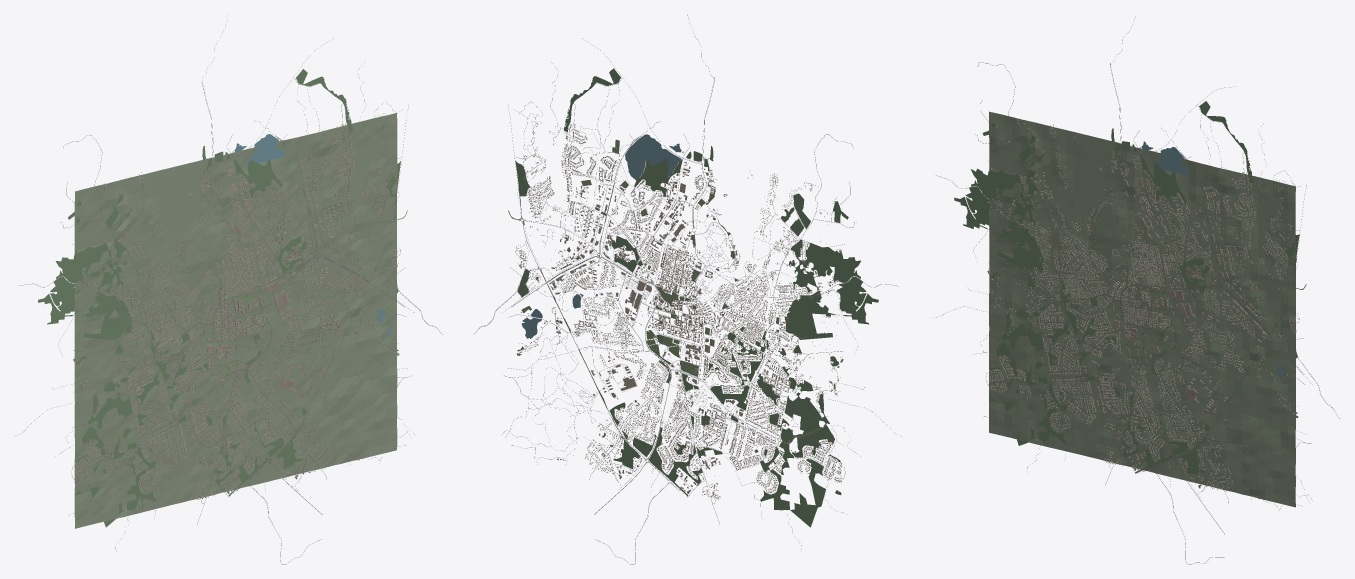
The model's file is pietarsaari_3d.glb.
3 views of the same model, side by side, from view 1: azimuth 30°, elevation 25°; view 2: azimuth 150°, elevation 25°; view 3: azimuth 330°, elevation 25° (orthographic). The views are drawn at different scales.
Visible parts, largest first — view 1: terrain_real_elevation, landcover_127, landcover_115, landcover_125, landcover_123, landcover_36, landcover_104; view 2: landcover_127, landcover_115, landcover_104, landcover_125, landcover_36, landcover_123, landcover_12, landcover_46, landcover_37; view 3: terrain_real_elevation, landcover_127, landcover_115, landcover_125, landcover_123, landcover_36, landcover_104.
Part boxes in pixels (bbox=[...]): terrain_real_elevation: bbox=[74, 113, 397, 528]; landcover_127: bbox=[55, 240, 125, 292]; landcover_115: bbox=[81, 291, 132, 340]; landcover_125: bbox=[38, 276, 79, 324]; landcover_123: bbox=[234, 159, 282, 197]; landcover_36: bbox=[87, 393, 132, 428]; landcover_104: bbox=[243, 134, 283, 166]; landcover_127: bbox=[791, 239, 860, 292]; landcover_115: bbox=[784, 291, 836, 339]; landcover_104: bbox=[625, 134, 680, 180]; landcover_125: bbox=[836, 276, 878, 324]; landcover_36: bbox=[784, 392, 829, 434]; landcover_123: bbox=[634, 159, 682, 196]; landcover_12: bbox=[790, 473, 825, 527]; landcover_46: bbox=[649, 427, 702, 496]; landcover_37: bbox=[792, 426, 834, 457]; terrain_real_elevation: bbox=[989, 111, 1295, 507]; landcover_127: bbox=[971, 168, 1037, 227]; landcover_115: bbox=[994, 217, 1043, 272]; landcover_125: bbox=[954, 186, 993, 229]; landcover_123: bbox=[1141, 155, 1186, 203]; landcover_36: bbox=[1000, 314, 1043, 350]; landcover_104: bbox=[1150, 147, 1188, 194].
Size of the model in its own units: 6666 by 8371 by 34.1.
